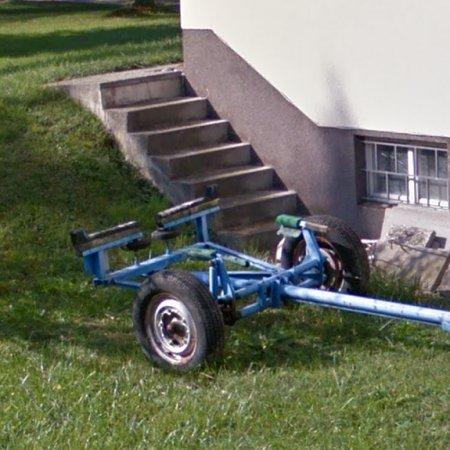stairs: (60, 71, 308, 248)
